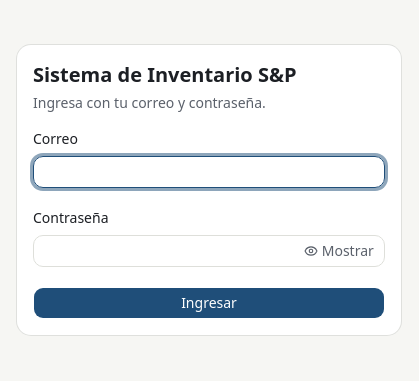
Test: Iniciar sesión › valida en español antes de enviar
The width and height of the screenshot is (419, 381).
Click the button "Ingresar" at (209, 303), box [33,287,385,319]
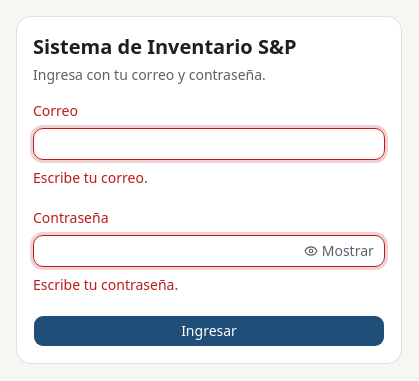
Expected: the text "Escribe tu correo." is shown, [33,168,148,187]
Expected: the text "Escribe tu contraseña." is shown, [33,275,178,294]
